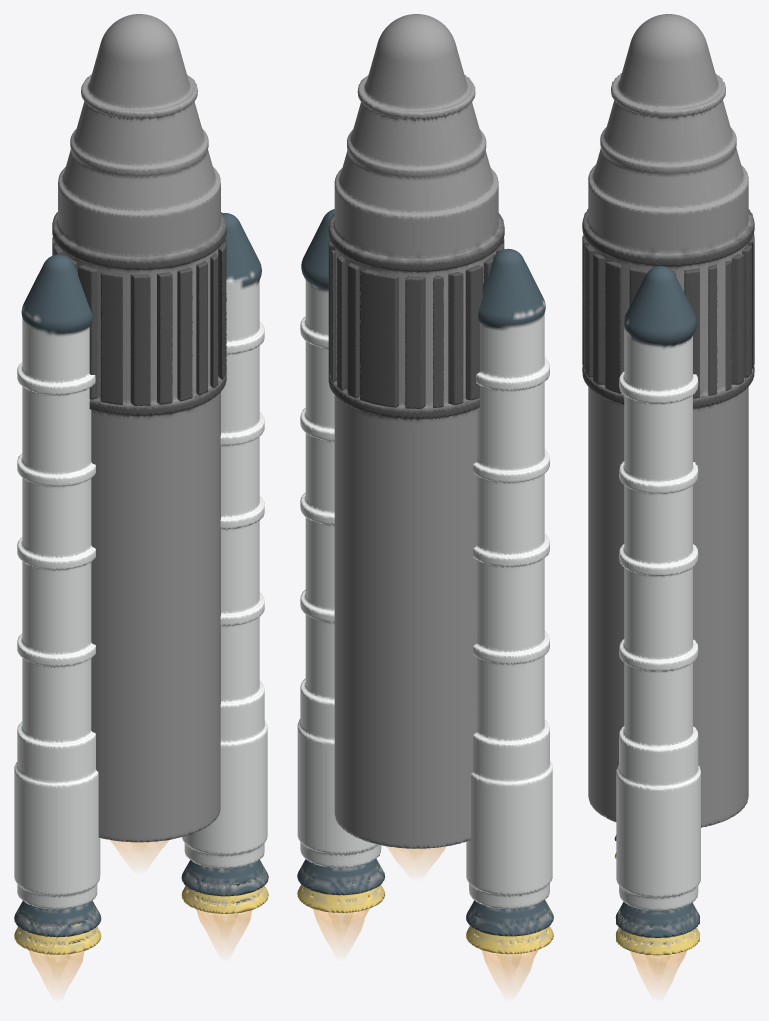
Rendered from rocket.glb.
3 views of the same model, side by side, from view 1: azimuth 30°, elevation 25°; view 2: azimuth 150°, elevation 25°; view 3: azimuth 270°, elevation 25° (orthographic). The views are drawn at different scales.
Visible parts, largest first — view 1: Central_Core_Textured, Right_Solid_Booster_Textured, Left_Solid_Booster_Textured, Upper_Core_Equipment_Textured, Left_Engine_Exhaust_Outer, Right_Engine_Exhaust_Outer, Central_Engine_Exhaust_Outer; view 2: Central_Core_Textured, Right_Solid_Booster_Textured, Left_Solid_Booster_Textured, Upper_Core_Equipment_Textured, Right_Engine_Exhaust_Outer, Left_Engine_Exhaust_Outer, Central_Engine_Exhaust_Outer; view 3: Central_Core_Textured, Left_Solid_Booster_Textured, Upper_Core_Equipment_Textured, Left_Engine_Exhaust_Outer.
Part boxes in pixels (box(x1,y1,x2,y2)): Central_Core_Textured: box(52, 14, 226, 842); Right_Solid_Booster_Textured: box(14, 254, 101, 954); Left_Solid_Booster_Textured: box(181, 213, 268, 913); Upper_Core_Equipment_Textured: box(52, 237, 226, 405); Left_Engine_Exhaust_Outer: box(196, 909, 252, 951); Right_Engine_Exhaust_Outer: box(29, 950, 84, 992); Central_Engine_Exhaust_Outer: box(110, 840, 168, 865); Central_Core_Textured: box(328, 14, 504, 848); Right_Solid_Booster_Textured: box(466, 248, 553, 954); Left_Solid_Booster_Textured: box(297, 209, 384, 912); Upper_Core_Equipment_Textured: box(328, 238, 504, 408); Right_Engine_Exhaust_Outer: box(482, 950, 537, 993); Left_Engine_Exhaust_Outer: box(313, 909, 369, 951); Central_Engine_Exhaust_Outer: box(387, 846, 445, 872); Central_Core_Textured: box(582, 14, 754, 827); Left_Solid_Booster_Textured: box(615, 266, 700, 955); Upper_Core_Equipment_Textured: box(582, 233, 754, 398); Left_Engine_Exhaust_Outer: box(630, 951, 686, 992).
Size of the model in its own units: 7.94 by 30.08 by 4.94.
7 materials, 4 textured.
